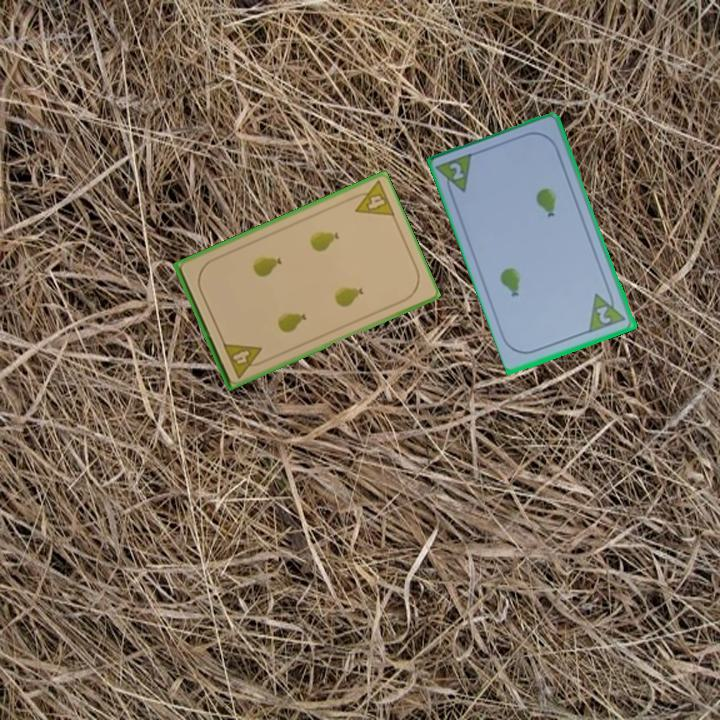2p: (586, 286, 629, 336), (446, 159, 467, 183)
4p: (345, 177, 397, 219), (220, 339, 269, 381)
